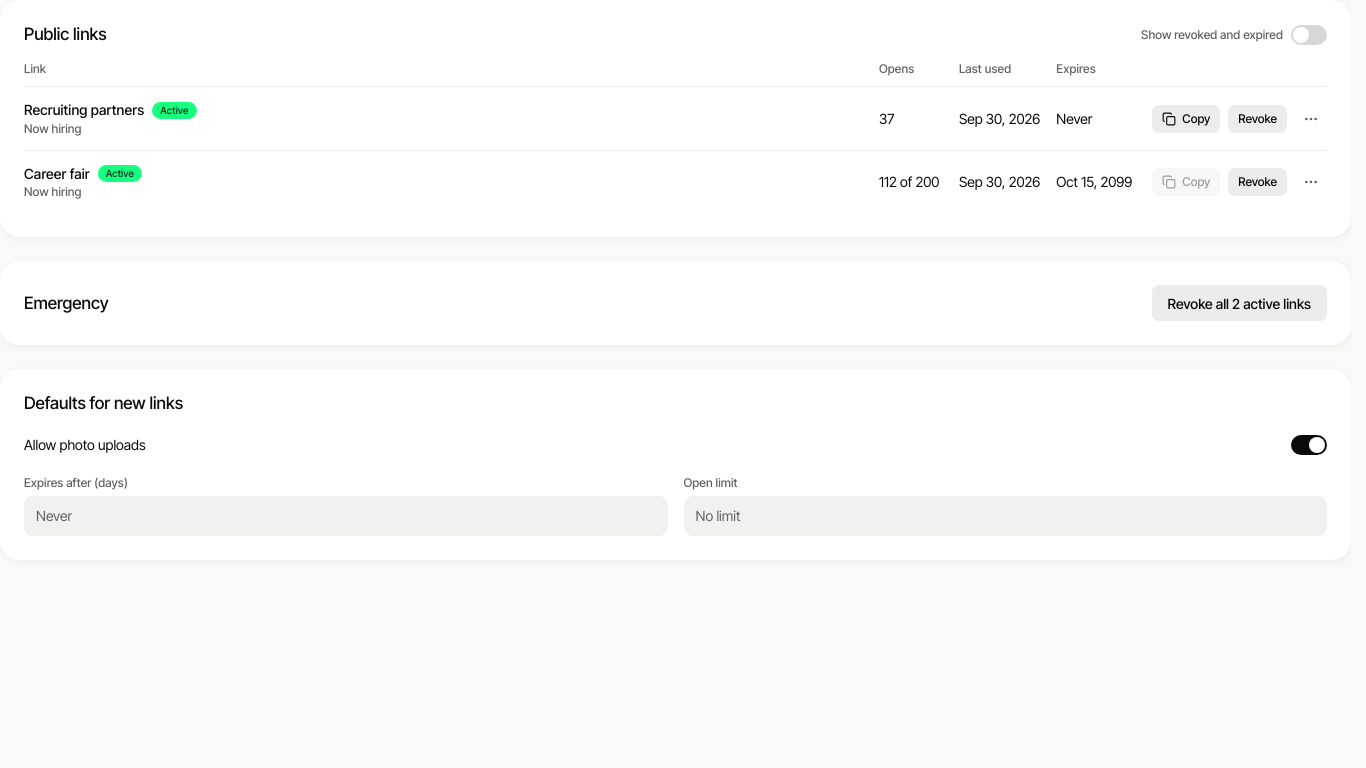
Scenario: SharingSection (PHASE-7 §9 D5, PHASE-8 §9 D1) › lists active links, with the revoked ones behind the filter
Expected: the text "Recruiting partners" is shown, [24,101,144,119]
Expected: the text "112 of 200" is shown, [863,150,943,213]
Click the switch named "Show revoked and expired links". click: (1234, 35)
box: [1141,25,1327,45]
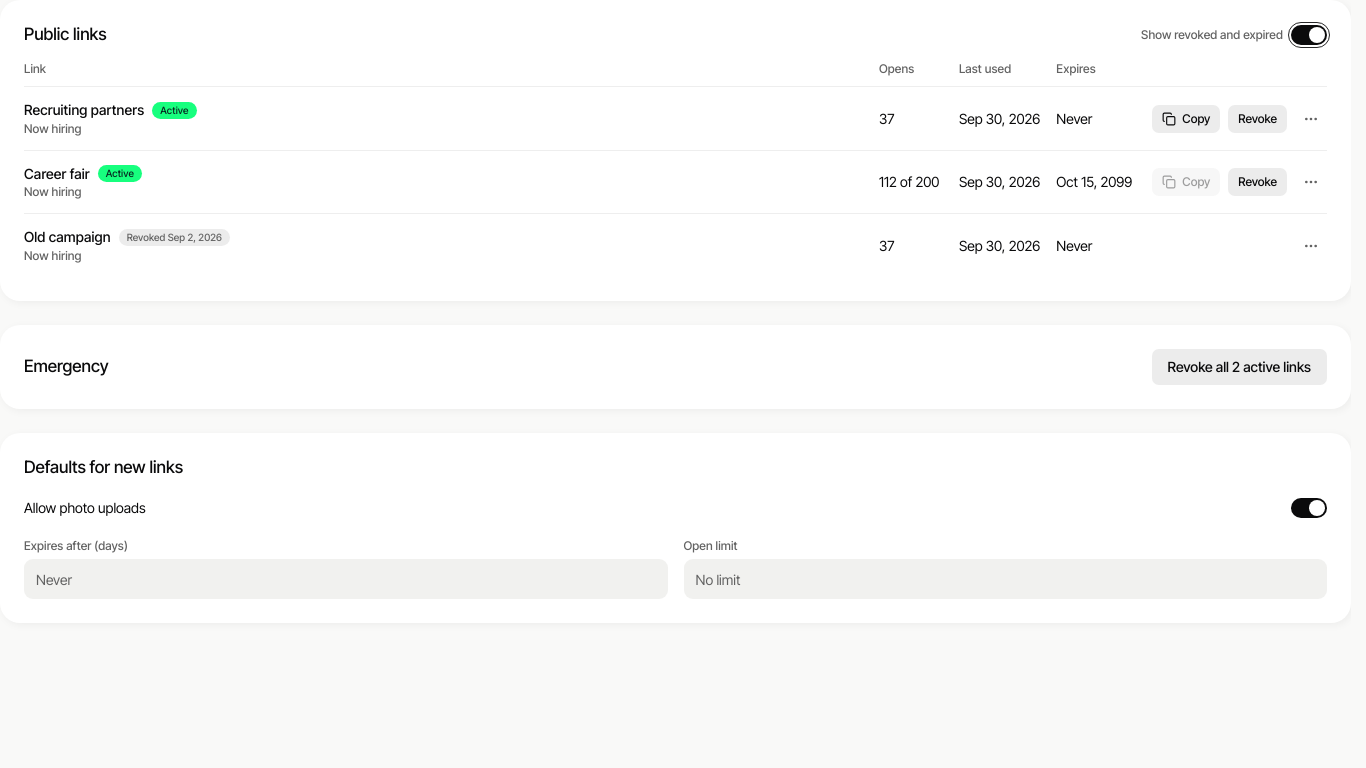
Expected: the text "Revoked Sep 2, 2026" is shown, [127,231,222,243]
